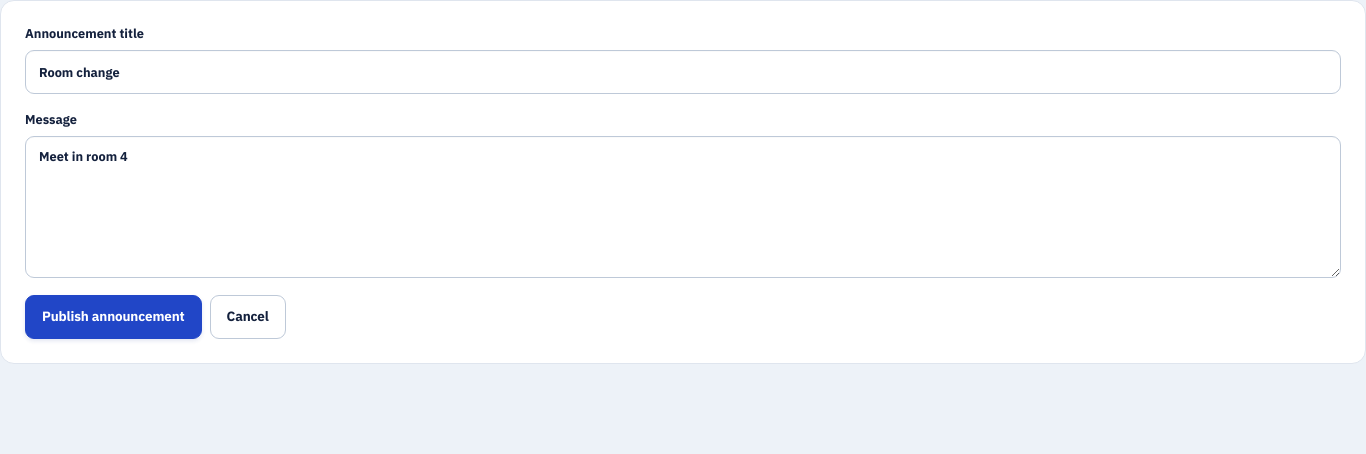
Test case: announcement publication preserves a failed draft
Click the button "Publish announcement" at (113, 317), box [25, 295, 202, 339]
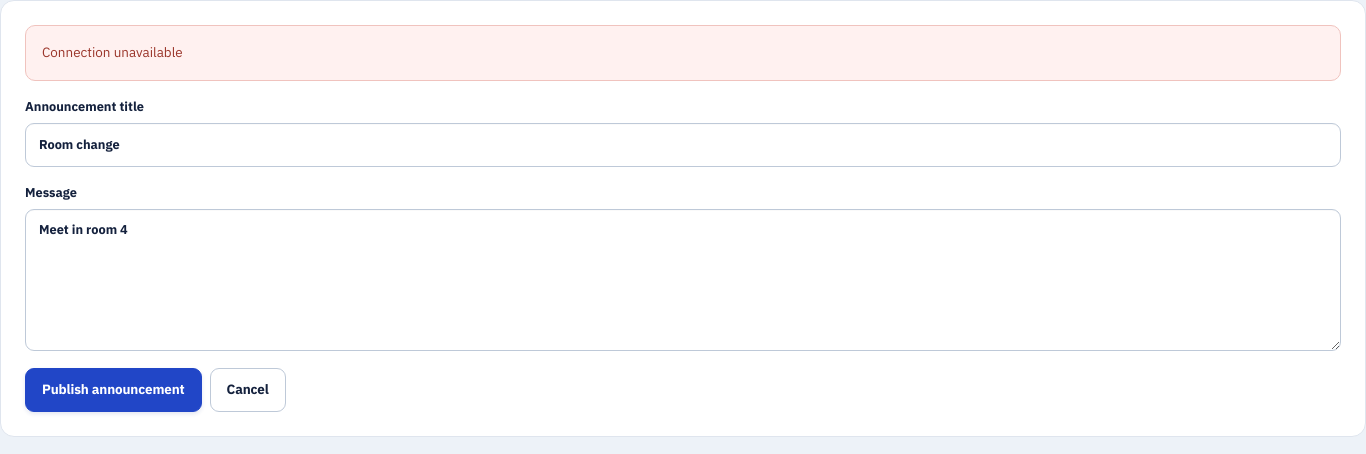
Expected: the text box labelled "Message" holds "Meet in room 4", [25, 208, 1341, 350]
Expected: the message reads "Connection unavailable", [42, 43, 183, 61]
